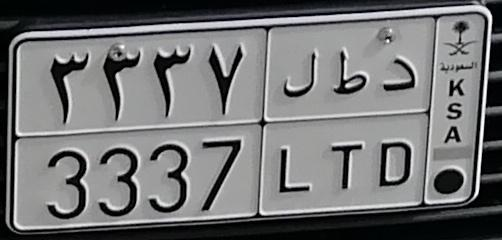3: (46, 49, 91, 220), (148, 45, 192, 213), (96, 47, 139, 218)
7: (201, 43, 247, 212)
D: (379, 54, 419, 188)
L: (278, 50, 319, 196)
T: (331, 48, 371, 191)
